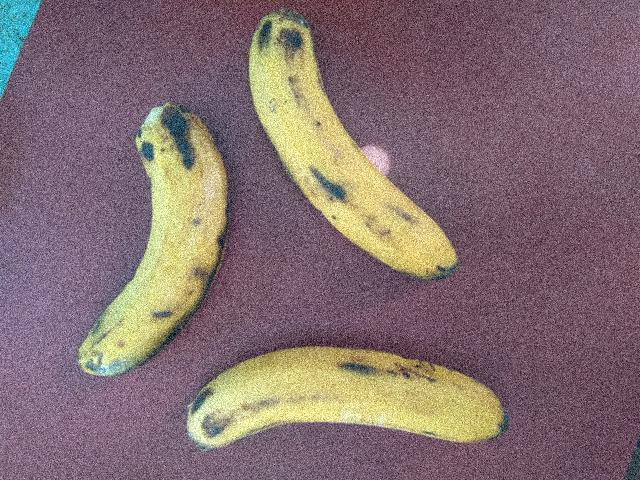overripe: (248, 0, 484, 282), (48, 89, 234, 394), (151, 334, 537, 479)
